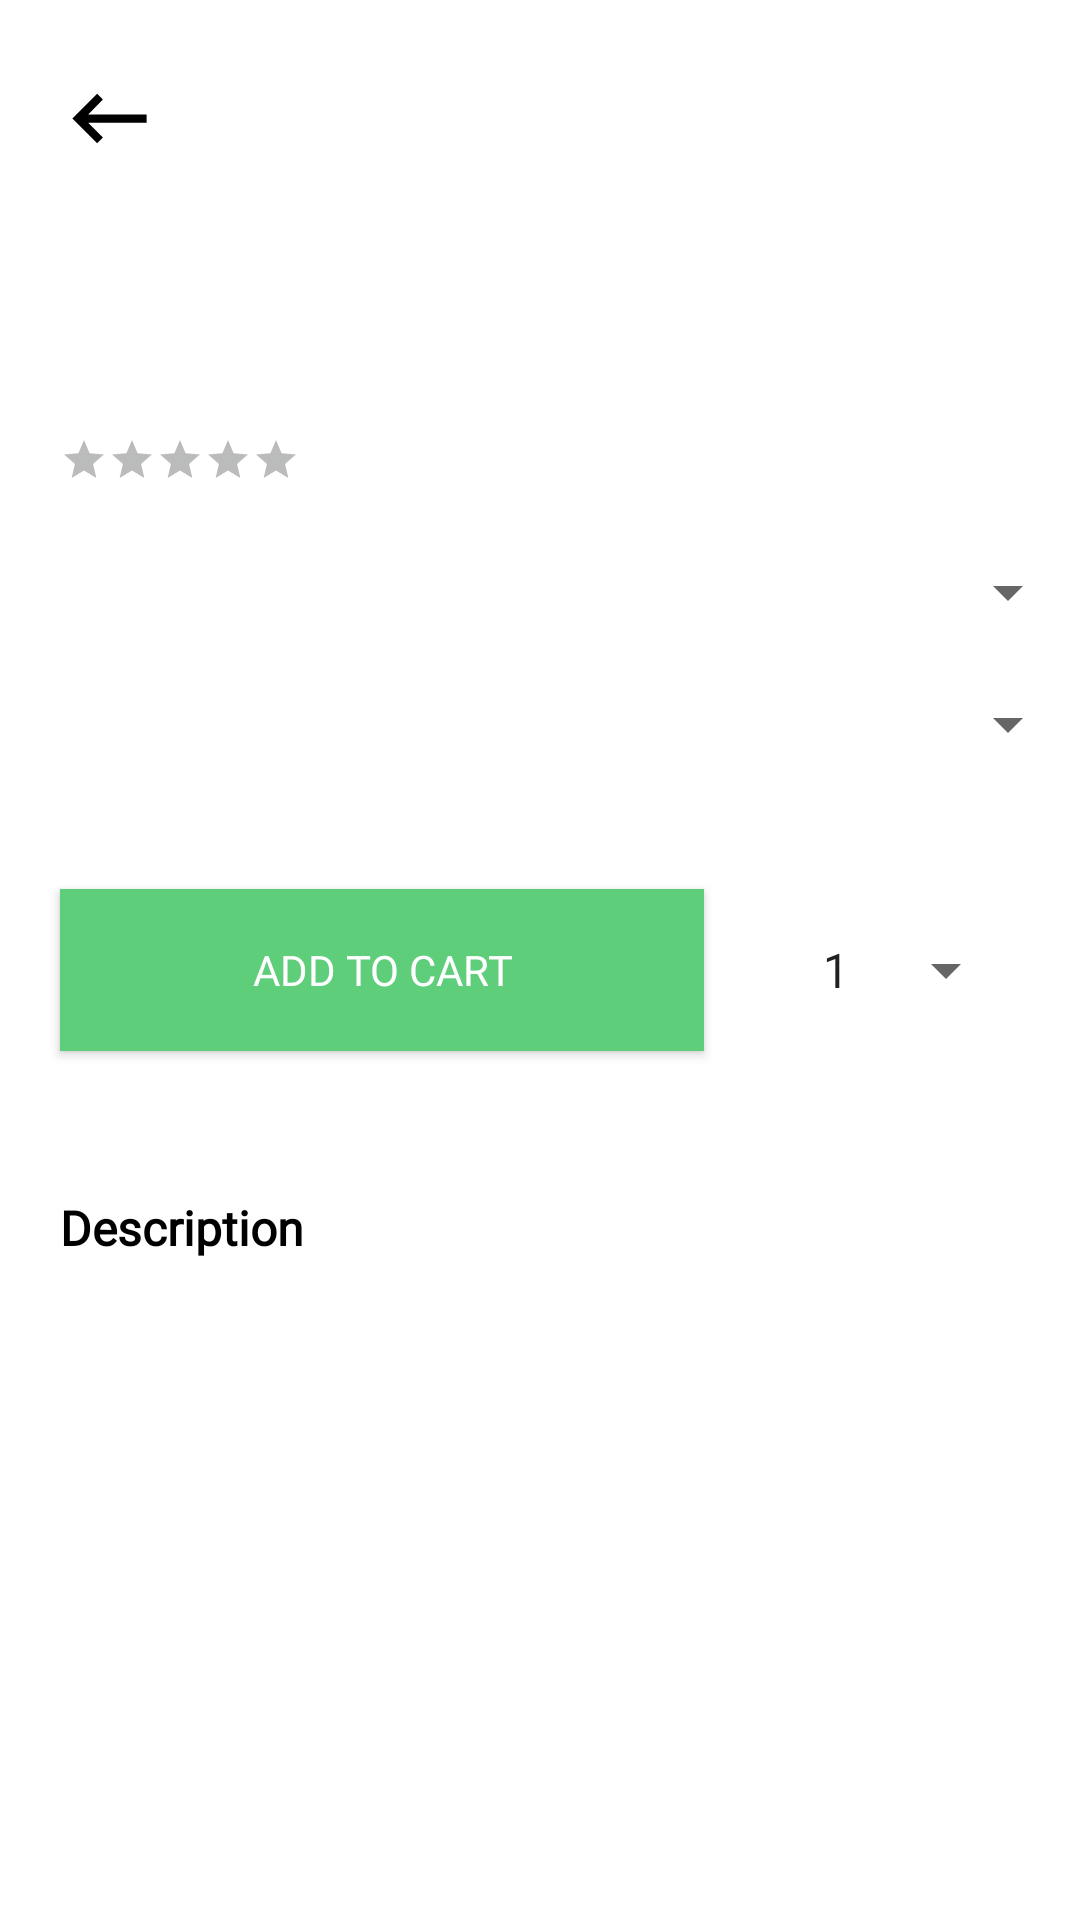

Screen size 1080w x 1920h. Icon name, then its box in pixels as (x1, y1, x2, y2):
back: (72, 94, 147, 143)
